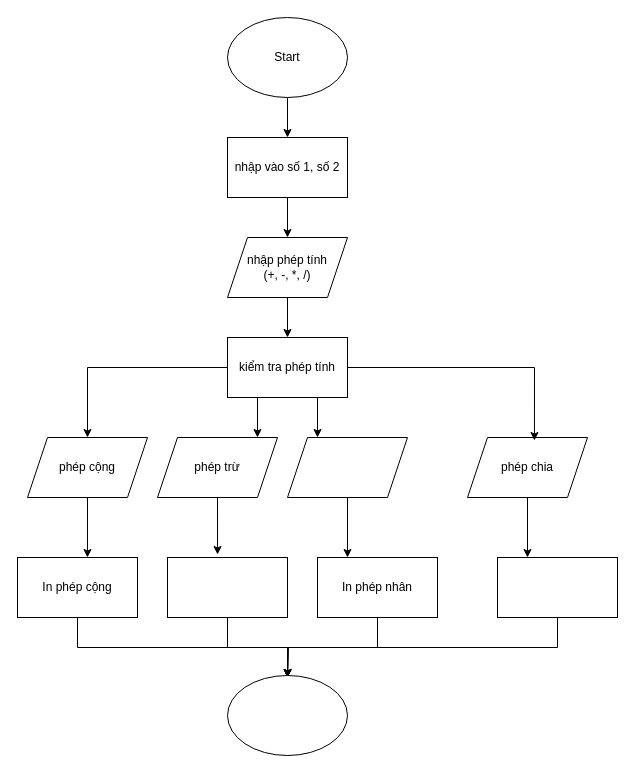
This 635x773 diagram has some shape labels left out. Here are the shapes that lost their labels. From the top down, the centre of each, then its label:
the point at 347,467: phép nhân
the point at 227,587: In phép trừ
the point at 557,587: In phép chia
the point at 287,715: END
